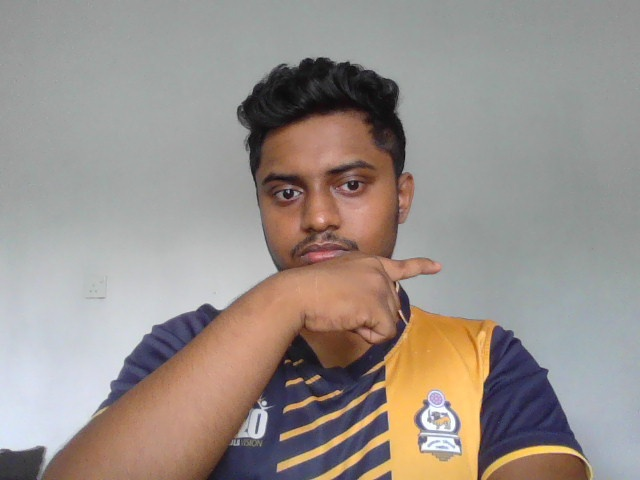Going To: (265, 252, 447, 345)
